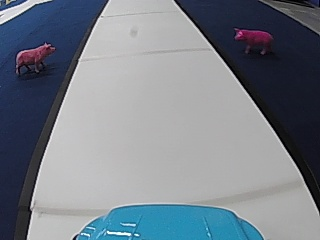pig: (13, 40, 55, 75), (231, 24, 274, 56)
